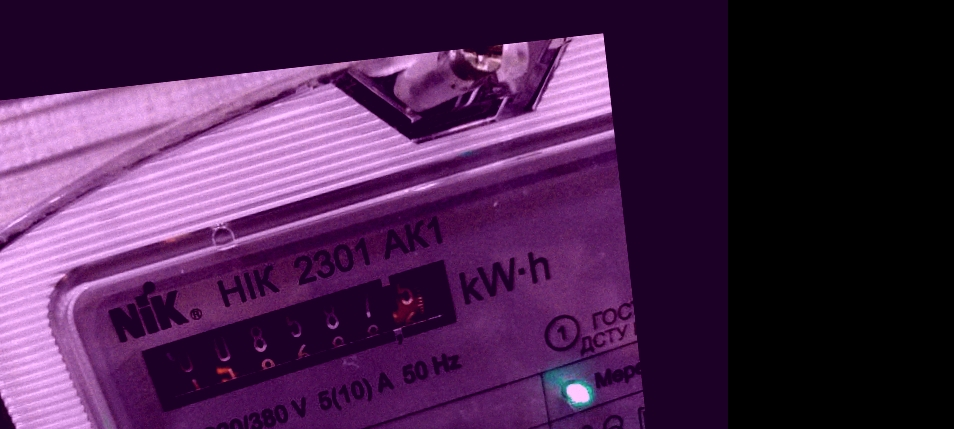0: (206, 328, 235, 365), (169, 340, 198, 375)
5: (280, 307, 306, 341), (391, 273, 416, 306)
6: (400, 308, 419, 326)
7: (353, 286, 379, 322)
8: (244, 320, 271, 355), (316, 297, 342, 333)
screen: (126, 255, 484, 415)
